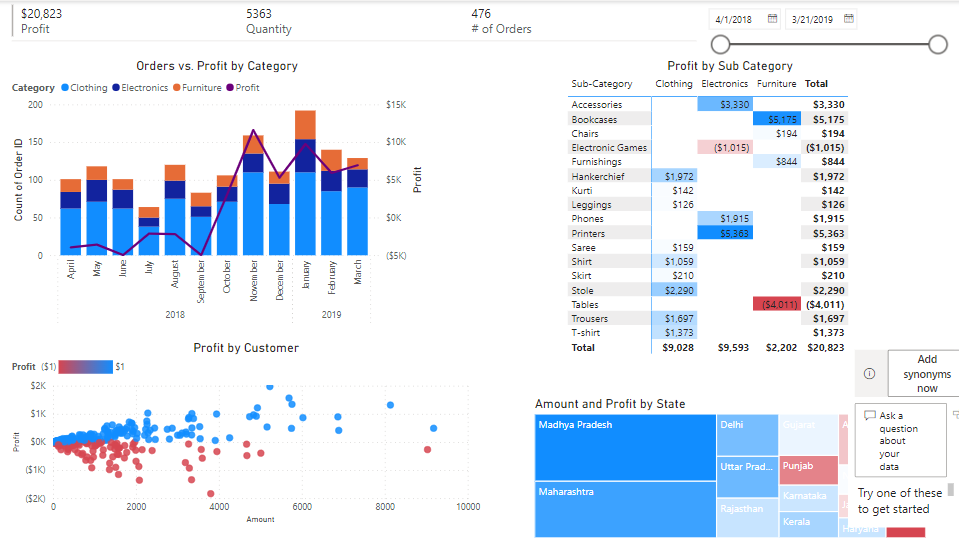

The page's visual inventory and layout, read from the dashboard file:
{"tool":"powerbi","page":{"name":"Profile Analysis","canvas":[1280,720],"ordinal":0},"visuals":[{"type":"multiRowCard","fields":{"Values":["Sum(Order Details.Profit)","Sum(Order Details.Quantity)","Order Details.Order ID"]},"box":[10.6,0,923.4,75.9],"z":0},{"type":"lineStackedColumnComboChart","title":"Orders vs. Profit by Category","fields":{"Category":["List of Orders.Order Date.Variation.Date Hierarchy.Year","List of Orders.Order Date.Variation.Date Hierarchy.Month"],"Series":["Order Details.Category"],"Y2":["Sum(Order Details.Profit)"],"Y":["CountNonNull(Order Details.Order ID)"]},"box":[10.6,75.9,557.9,365.5],"z":1000},{"type":"pivotTable","title":"Profit by Sub Category","fields":{"Rows":["Order Details.Sub-Category"],"Columns":["Order Details.Category"],"Values":["Sum(Order Details.Profit)"]},"box":[752.1,75.9,443.1,450.2],"z":2000},{"type":"scatterChart","title":"Profit by Customer","fields":{"Category":["List of Orders.CustomerName"],"X":["Sum(Order Details.Amount)"],"Y":["Sum(Order Details.Profit)"]},"box":[10.1,451.9,635,250.3],"z":3000},{"type":"treemap","fields":{"Values":["Sum(Order Details.Amount)"],"Group":["List of Orders.State"]},"box":[708,526.1,531.4,194.2],"z":4000},{"type":"qnaVisual","box":[1130,451.9,150,250.3],"z":5000},{"type":"slicer","fields":{"Values":["List of Orders.Order Date"]},"box":[932.2,0,347.8,75.9],"z":5001}]}

Visuals, with their boxes in screenshot pixels (x1, y1, x2, y2), scaled from the page's 1280x720 canvas onto the 959x538 screenshot:
multiRowCard - Sum(Order Details.Profit) x Sum(Order Details.Quantity): [left=8, top=0, right=700, bottom=57]
"Orders vs. Profit by Category" lineStackedColumnComboChart: [left=8, top=57, right=426, bottom=330]
"Profit by Sub Category" pivotTable: [left=563, top=57, right=895, bottom=393]
"Profit by Customer" scatterChart: [left=8, top=338, right=483, bottom=525]
treemap - Sum(Order Details.Amount) x List of Orders.State: [left=530, top=393, right=929, bottom=537]
qnaVisual: [left=847, top=338, right=958, bottom=525]
slicer - List of Orders.Order Date: [left=698, top=0, right=958, bottom=57]
